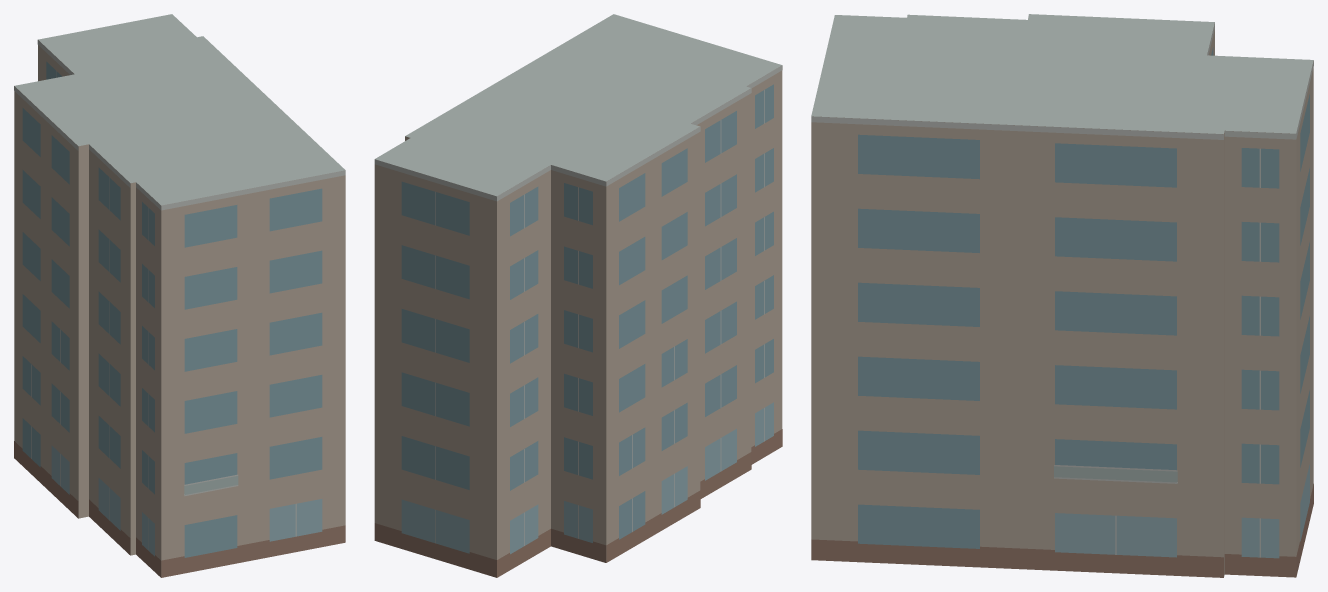
The model's file is survey-upis-32584210.glb.
3 views of the same model, side by side, from view 1: azimuth 30°, elevation 25°; view 2: azimuth 150°, elevation 25°; view 3: azimuth 270°, elevation 25° (orthographic). The views are drawn at different scales.
Visible parts, largest first — view 1: survey-upis-32584210.tmp; view 2: survey-upis-32584210.tmp; view 3: survey-upis-32584210.tmp.
Part boxes in pixels (<box>): survey-upis-32584210.tmp: <box>14,14,345,577</box>; survey-upis-32584210.tmp: <box>374,14,782,577</box>; survey-upis-32584210.tmp: <box>811,14,1313,577</box>.
Size of the model in its own units: 10.63 by 18.3 by 18.8.
